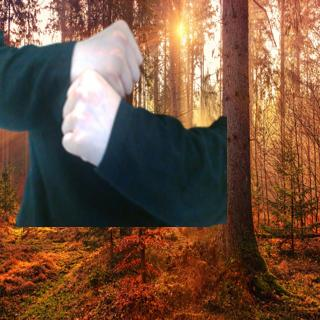CAREFUL: (52, 13, 151, 170)
